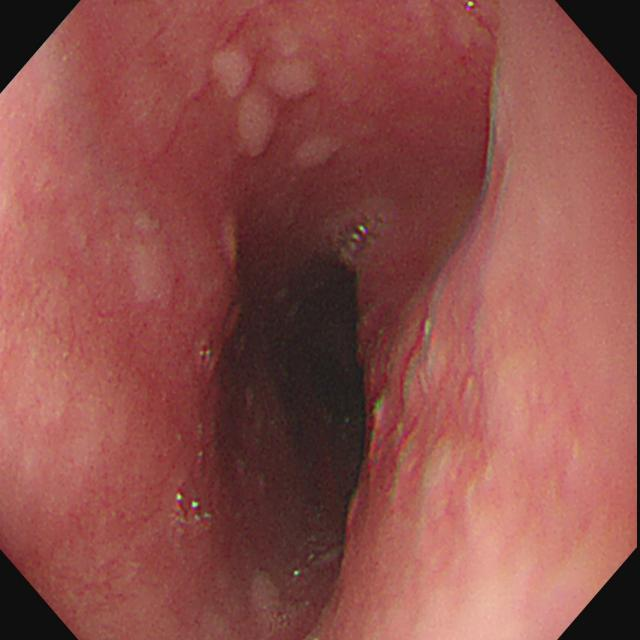A: (356, 275, 499, 530)
E: (224, 245, 382, 577)
J: (201, 40, 257, 104), (228, 97, 284, 161), (266, 48, 324, 104)
T: (175, 487, 214, 532), (339, 220, 374, 263), (197, 344, 213, 370)
